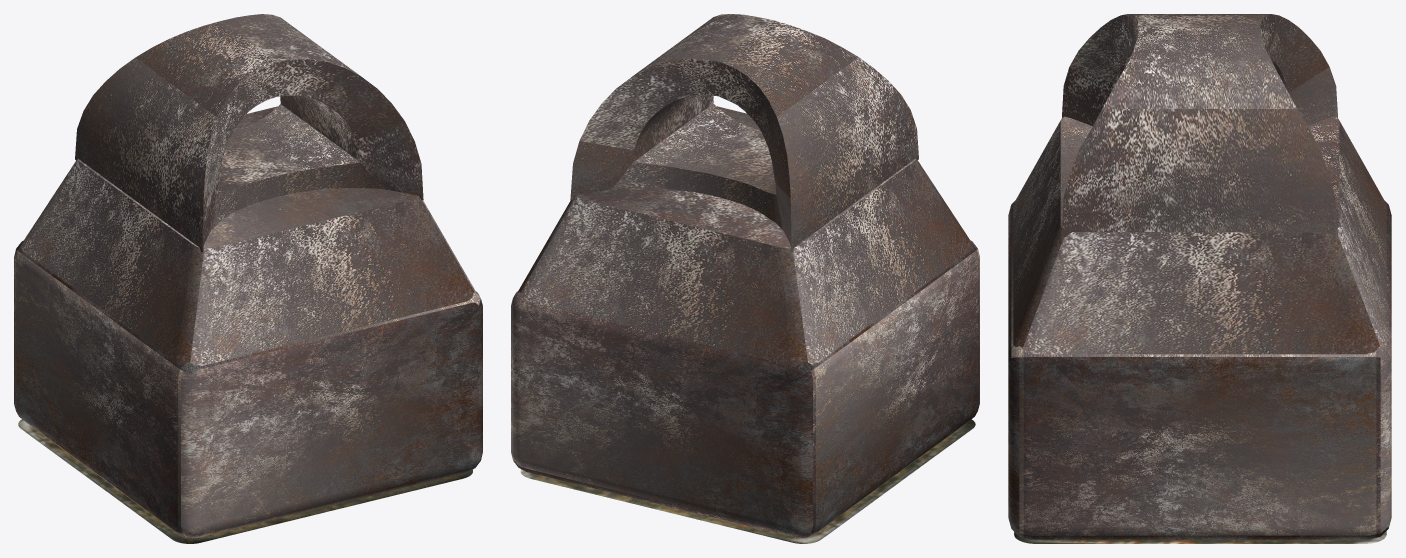
Rendered from dezhi1.FBX.
3 renders of one model, left to right at view 1: azimuth 30°, elevation 25°; view 2: azimuth 150°, elevation 25°; view 3: azimuth 270°, elevation 25°, orthographic. The views are drawn at different scales.
Visible parts, largest first — view 1: ChamferBox002, Rectangle001, Circle004, Rectangle002; view 2: ChamferBox002, Rectangle001, Circle004, Rectangle002; view 3: ChamferBox002, Rectangle001, Circle004, Rectangle002.
Boxes of the visible parts, x1,y1,x2,y2 form: ChamferBox002: [14, 240, 482, 538]; Rectangle001: [20, 106, 476, 365]; Circle004: [75, 14, 423, 252]; Rectangle002: [18, 419, 472, 543]; ChamferBox002: [511, 240, 979, 537]; Rectangle001: [517, 106, 973, 365]; Circle004: [570, 14, 918, 252]; Rectangle002: [520, 419, 975, 543]; ChamferBox002: [1008, 200, 1391, 539]; Rectangle001: [1013, 116, 1386, 354]; Circle004: [1061, 14, 1337, 236]; Rectangle002: [1014, 531, 1386, 543].
Size of the model in its own units: 35 by 44.27 by 35.
2 materials, 2 textured.
